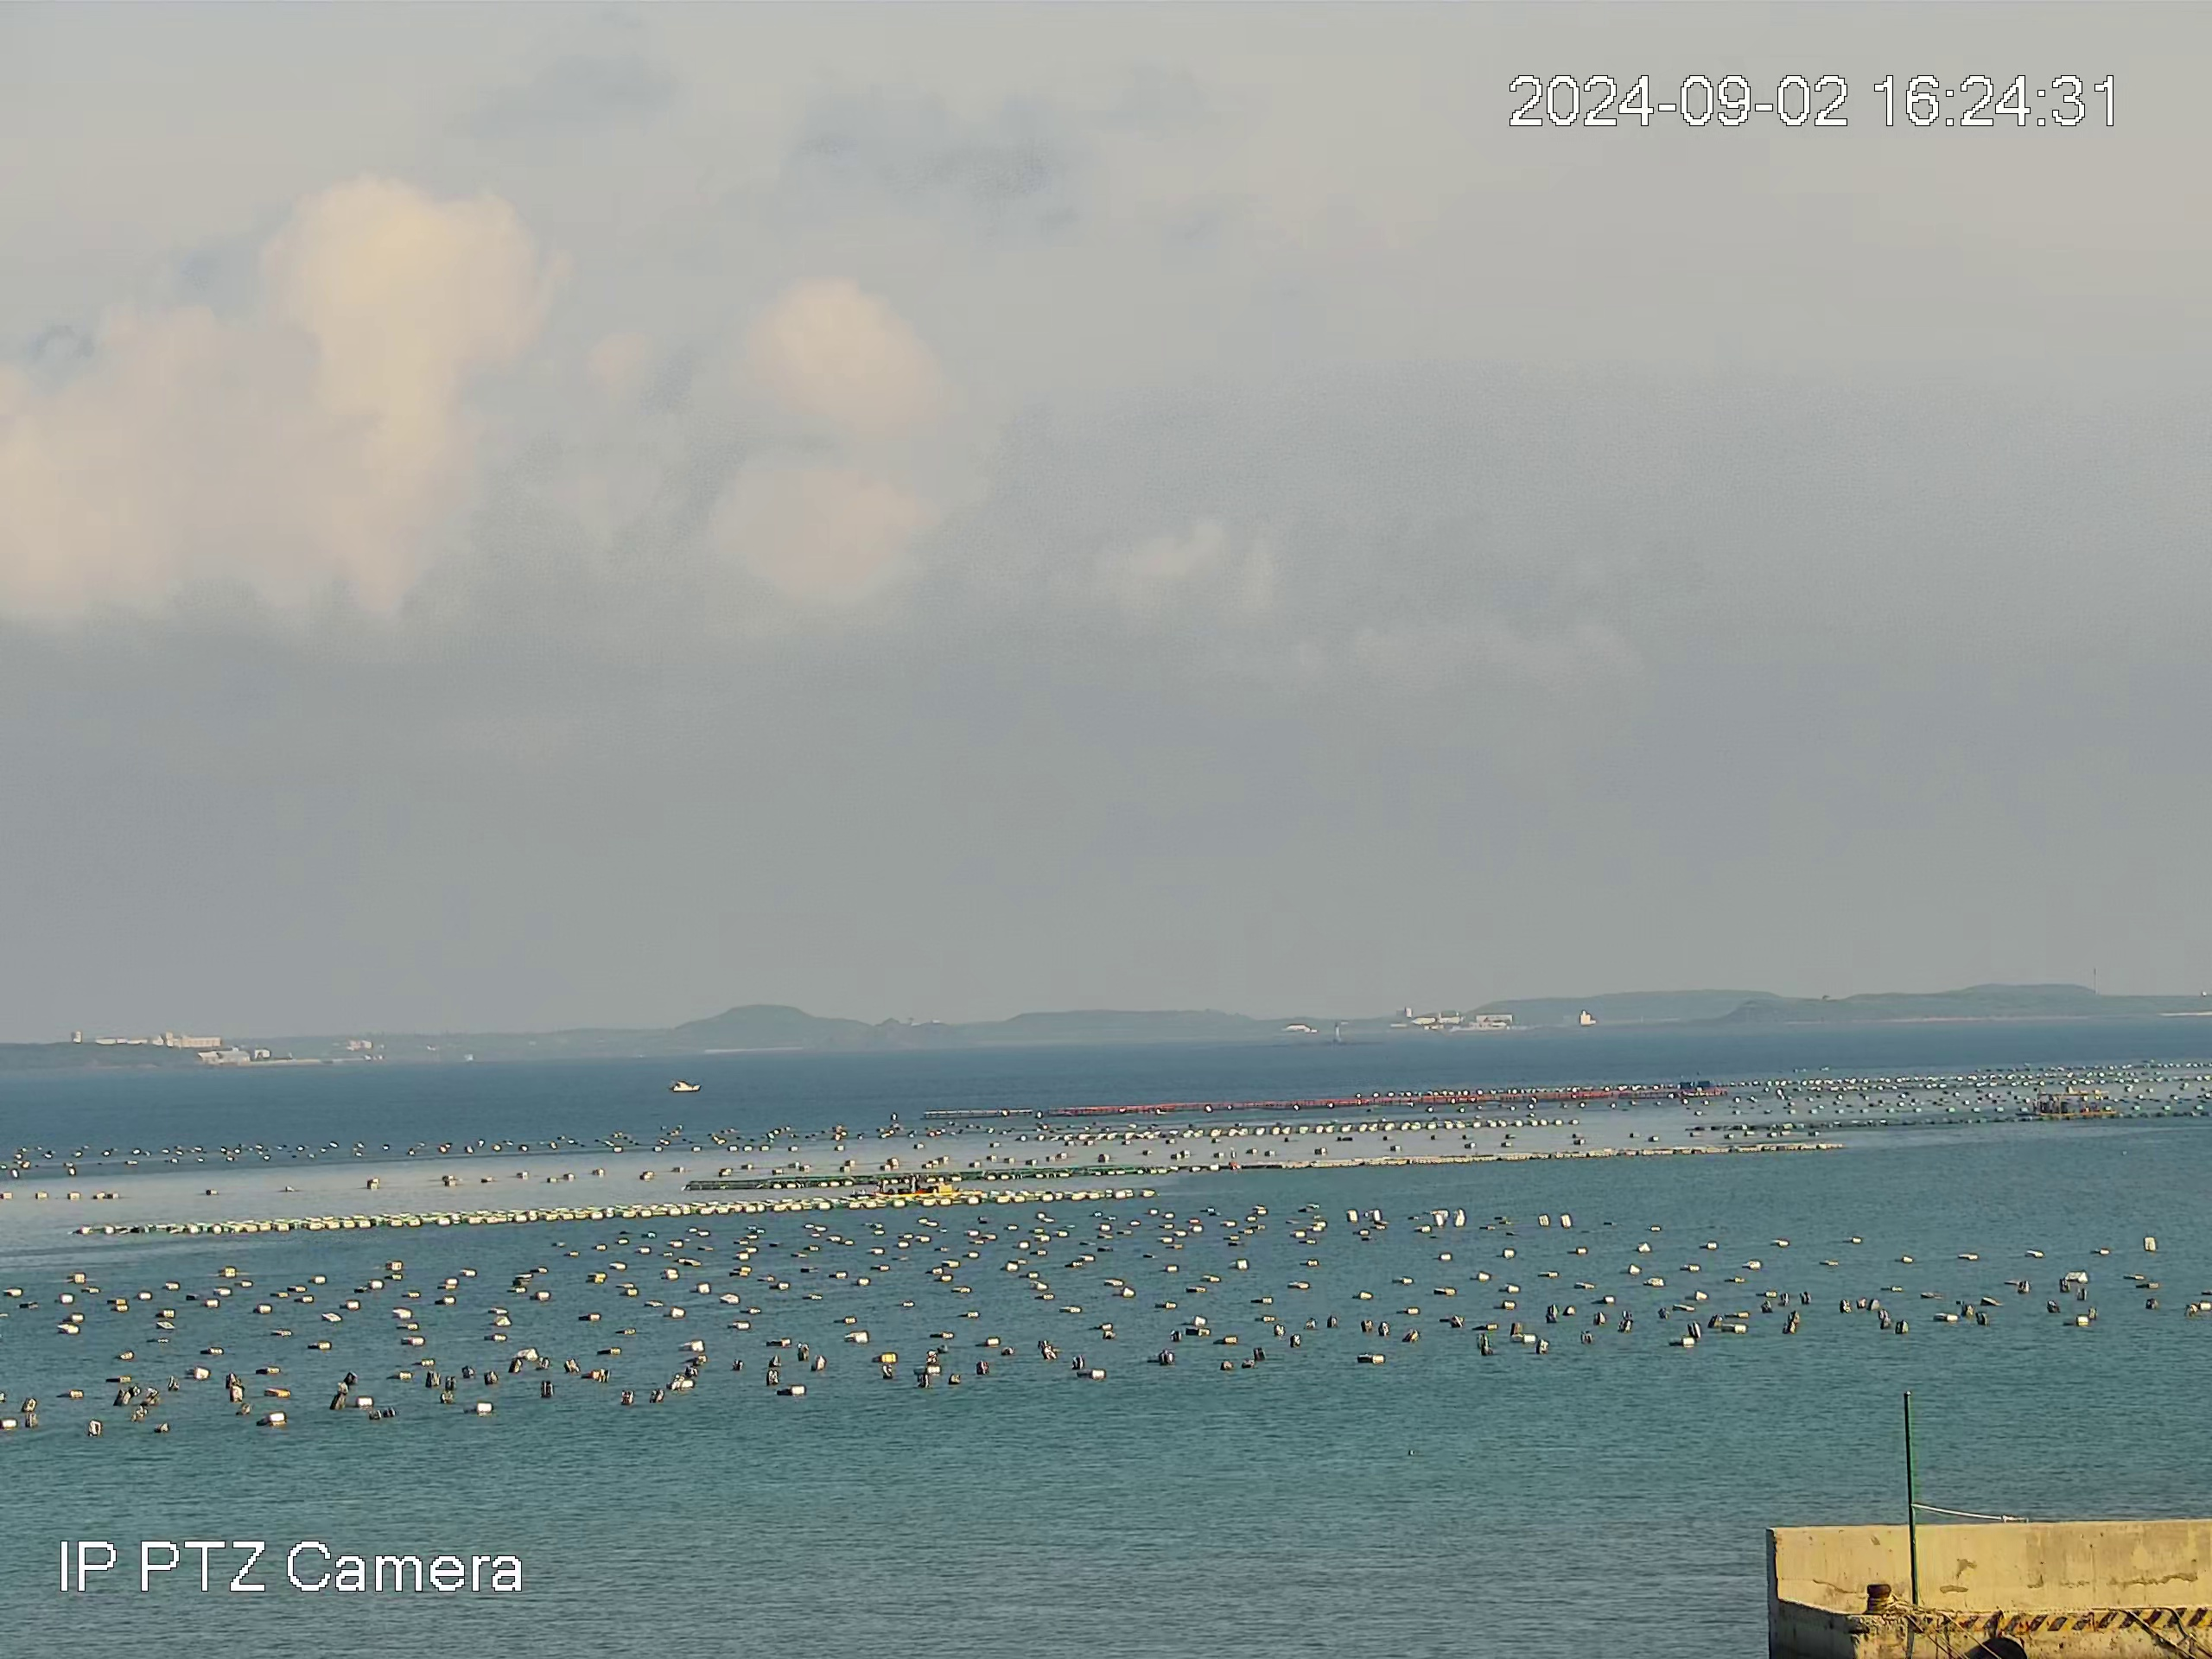boat: (2032, 1088, 2118, 1119), (873, 1173, 982, 1196), (670, 1078, 701, 1093)
